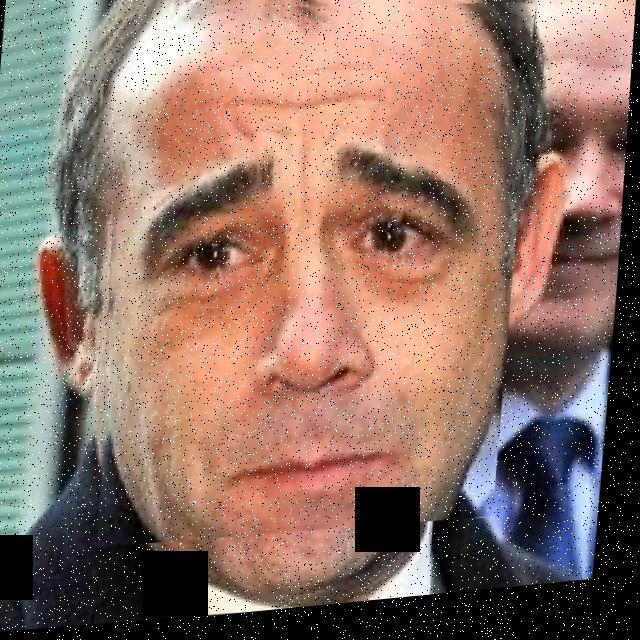sad: (84, 0, 538, 558)
